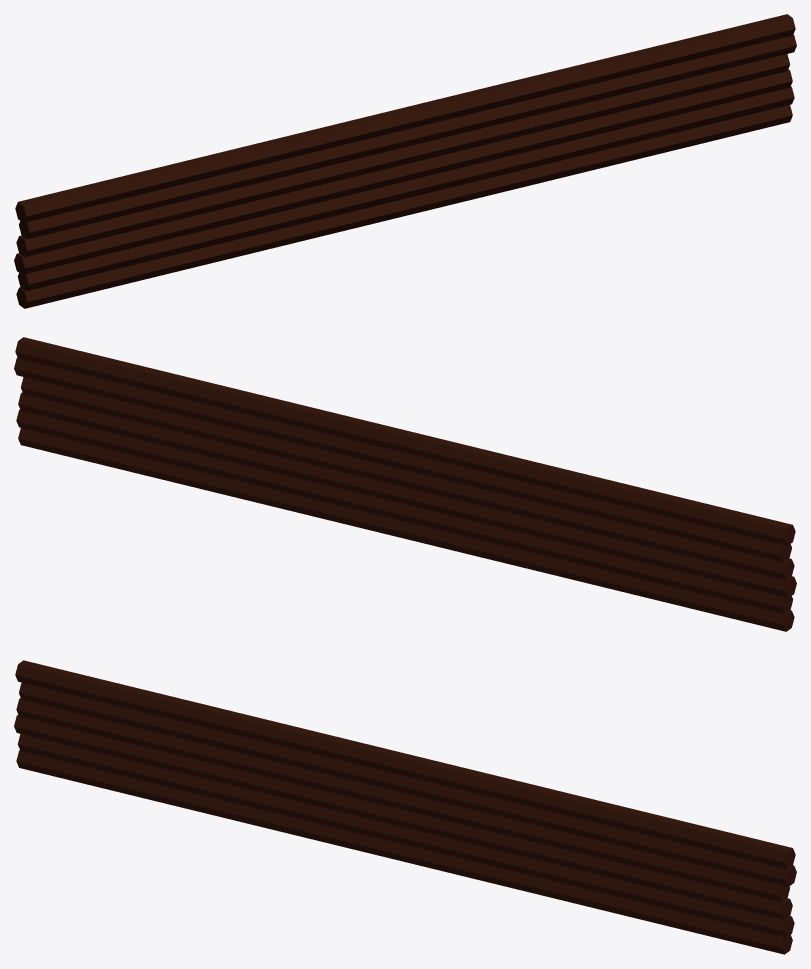
The model's file is logwall_01.FBX.
The picture shows the model from 3 angles, top to bottom: view 1: azimuth 30°, elevation 25°; view 2: azimuth 150°, elevation 25°; view 3: azimuth 330°, elevation 25°; orthographic projection.
Visible parts, largest first — view 1: Cylinder005, Cylinder001, Cylinder004, Cylinder003, Cylinder006, Cylinder002; view 2: Cylinder005, Cylinder001, Cylinder004, Cylinder003, Cylinder006, Cylinder002; view 3: Cylinder005, Cylinder001, Cylinder004, Cylinder002, Cylinder003, Cylinder006.
Boxes of the visible parts, <box> form: Cylinder005: <box>15,14,795,222</box>; Cylinder001: <box>16,105,792,308</box>; Cylinder004: <box>19,34,796,239</box>; Cylinder003: <box>14,69,792,274</box>; Cylinder006: <box>16,54,789,256</box>; Cylinder002: <box>17,86,794,290</box>; Cylinder005: <box>15,337,795,545</box>; Cylinder001: <box>18,428,794,631</box>; Cylinder004: <box>14,357,791,562</box>; Cylinder003: <box>18,392,796,597</box>; Cylinder006: <box>21,377,794,579</box>; Cylinder002: <box>16,409,793,613</box>; Cylinder005: <box>15,660,795,869</box>; Cylinder001: <box>16,750,792,954</box>; Cylinder004: <box>19,682,796,886</box>; Cylinder002: <box>17,734,794,937</box>; Cylinder003: <box>14,715,792,919</box>; Cylinder006: <box>16,698,789,902</box>.
Bounding box in the file's own units: 404 × 51.7 × 10.
